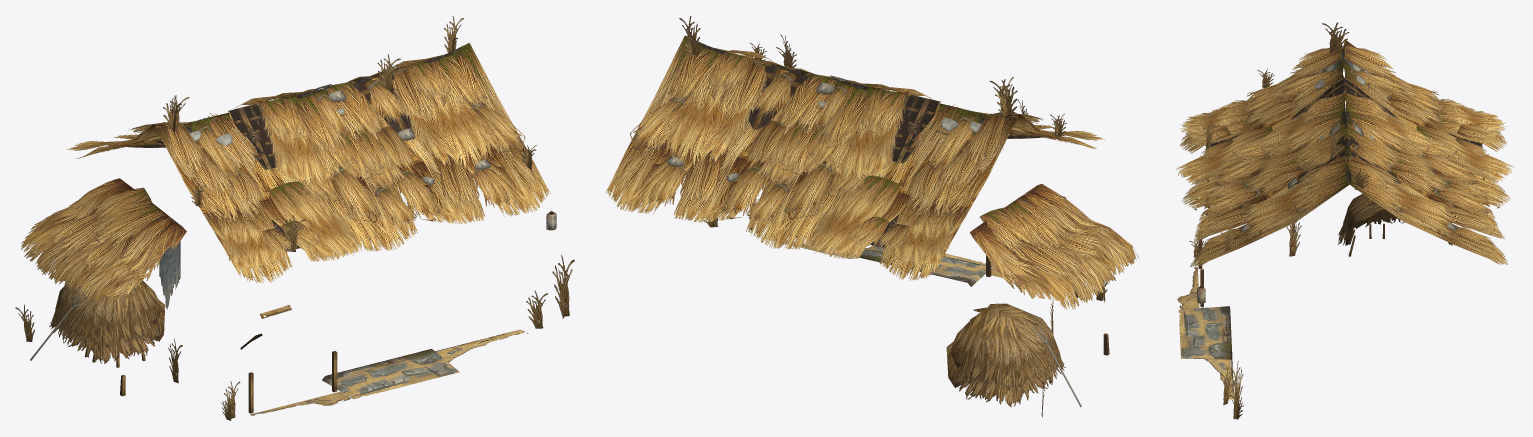
The model's file is jd_caofang_1.FBX.
The picture shows the model from 3 angles, left to right: view 1: azimuth 30°, elevation 25°; view 2: azimuth 150°, elevation 25°; view 3: azimuth 270°, elevation 25°; orthographic projection. The views are drawn at different scales.
Parts seen in each view (by area): view 1: jd_caofang_1; view 2: jd_caofang_1; view 3: jd_caofang_1.
Part boxes in pixels (box(x1,y1,x2,y2)): jd_caofang_1: box(15, 16, 574, 420); jd_caofang_1: box(605, 16, 1138, 417); jd_caofang_1: box(1176, 22, 1513, 419).
Size of the model in its own units: 1138 by 639 by 809.
